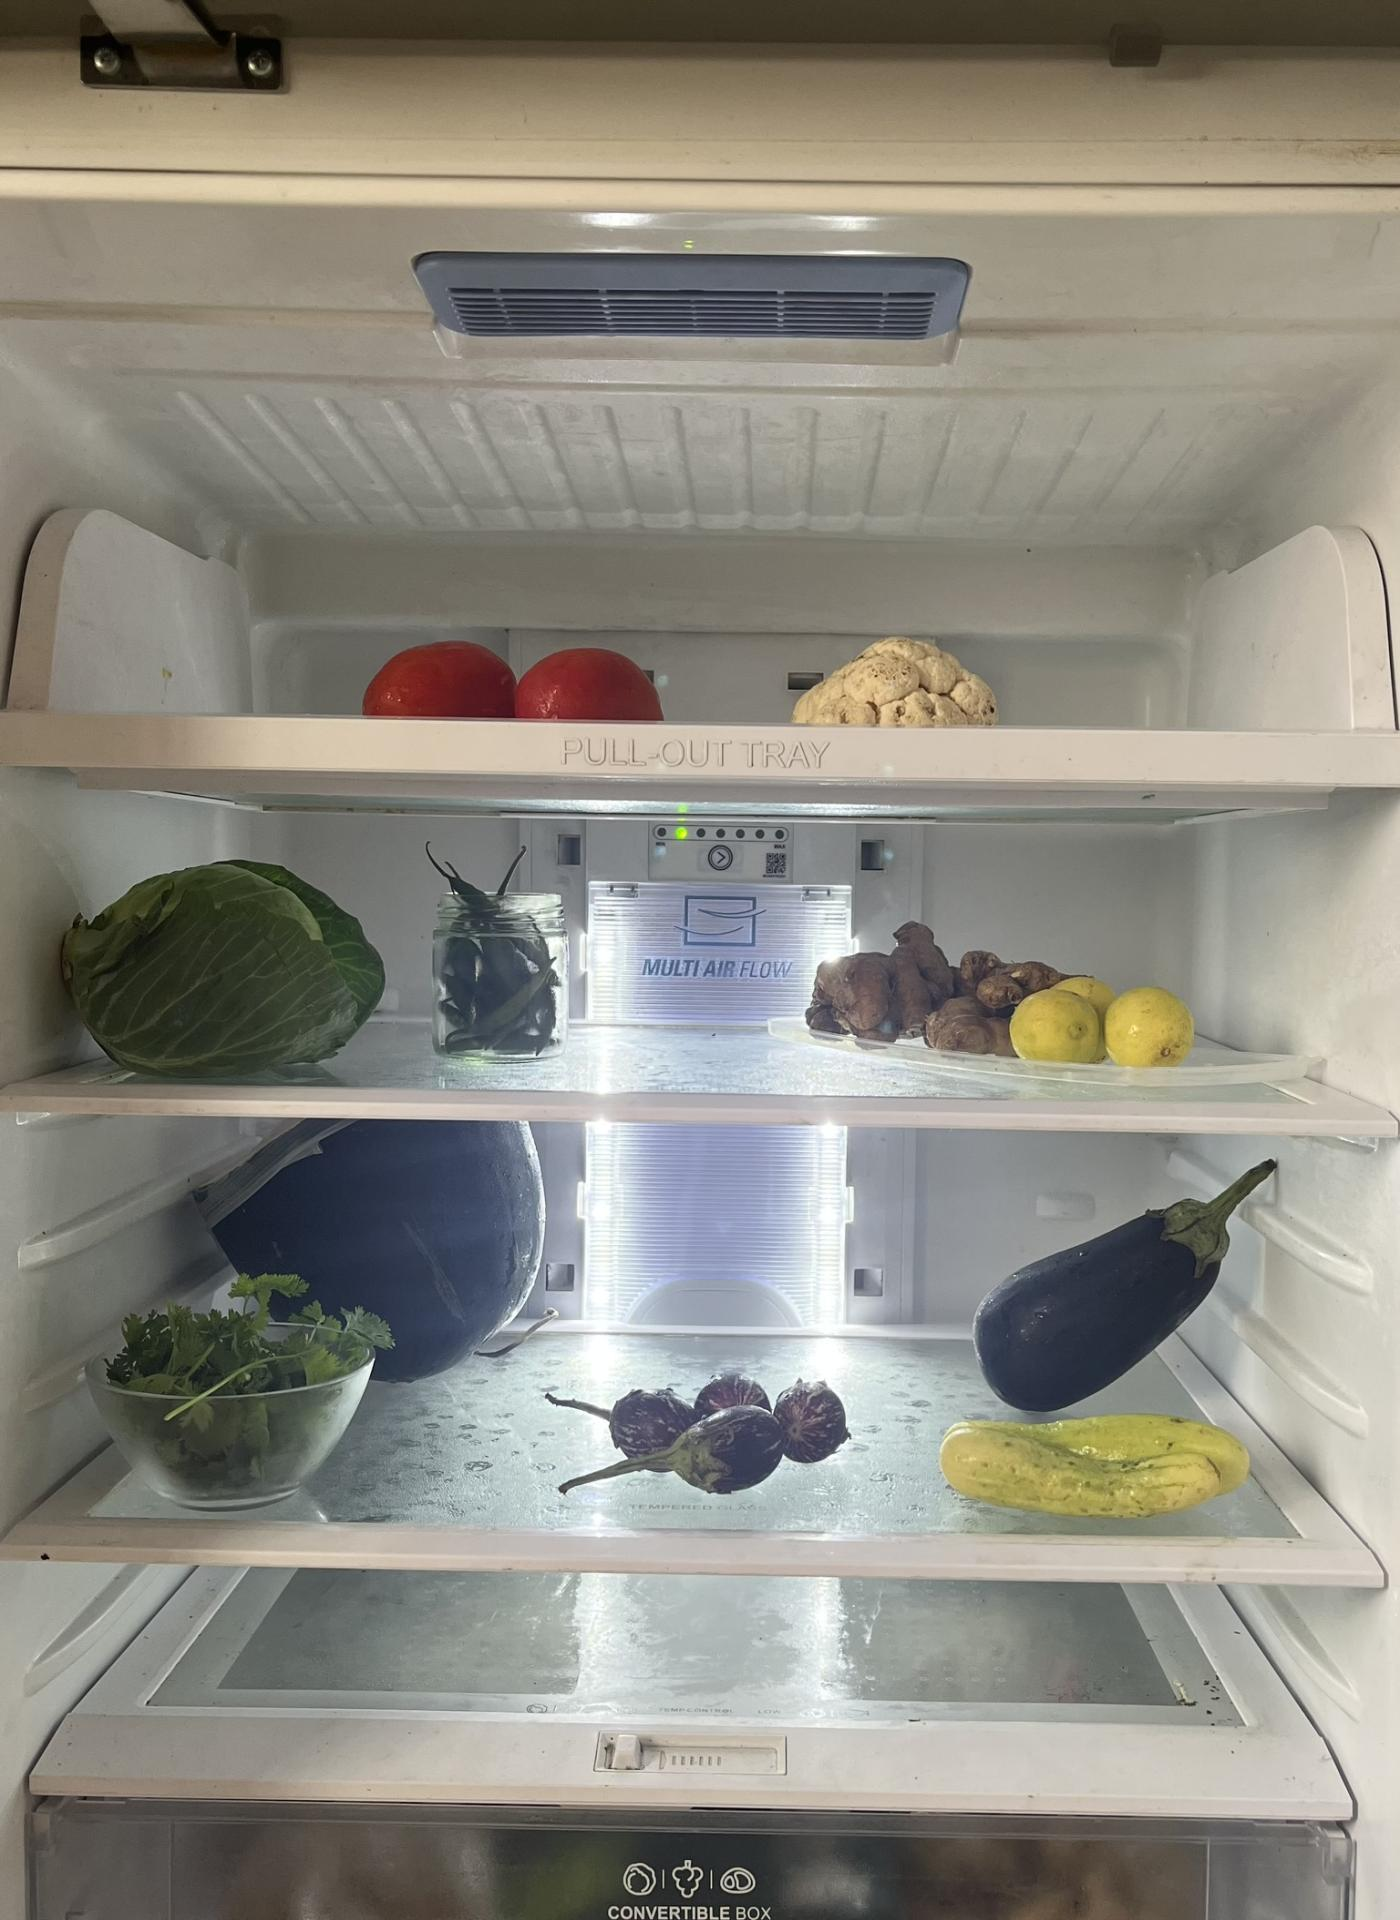cabbage: (58, 860, 389, 1085)
cauliflower: (777, 631, 1008, 721)
chillies: (425, 844, 565, 1066)
coriander: (106, 1272, 386, 1497)
cucumber: (917, 1413, 1264, 1531)
ginger: (802, 918, 1018, 1054)
lemon: (1006, 978, 1206, 1078)
tomato: (352, 644, 668, 716)
watermelon: (204, 1125, 553, 1388)
